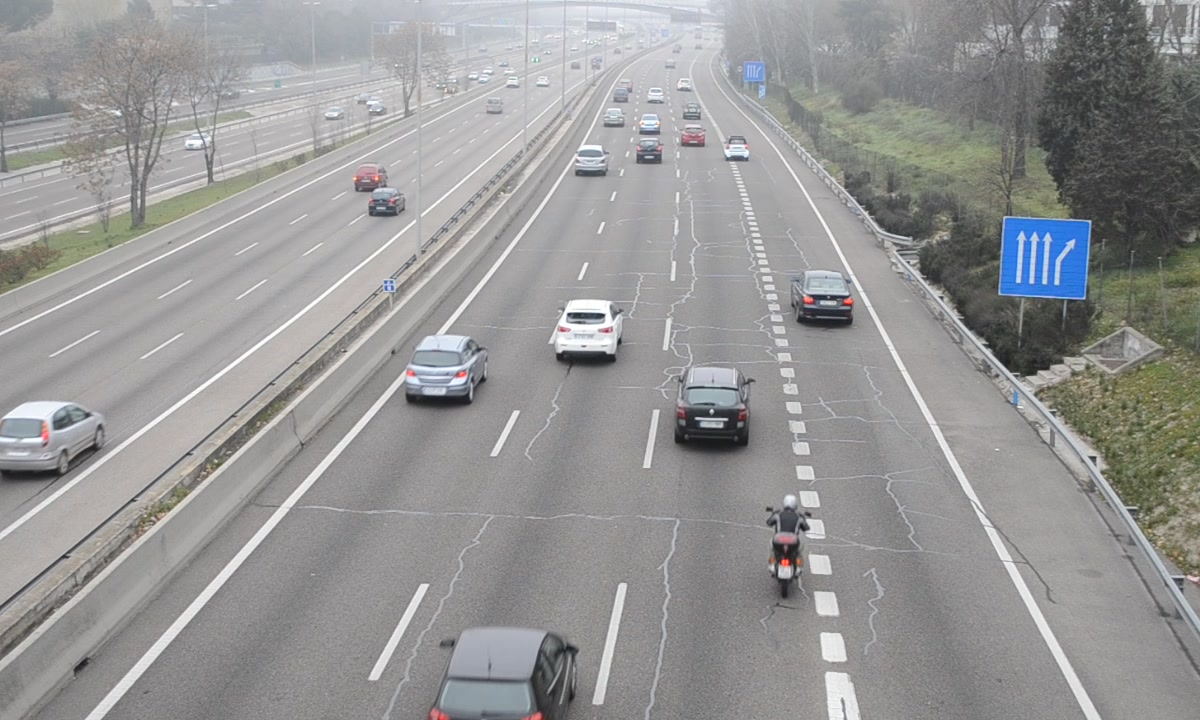car: (430, 627, 577, 718), (674, 366, 751, 445), (405, 334, 487, 402), (554, 298, 625, 358), (793, 269, 854, 323), (573, 143, 607, 174), (722, 134, 750, 161), (635, 136, 662, 164), (681, 122, 708, 147)
motorcycle: (765, 493, 813, 599)
